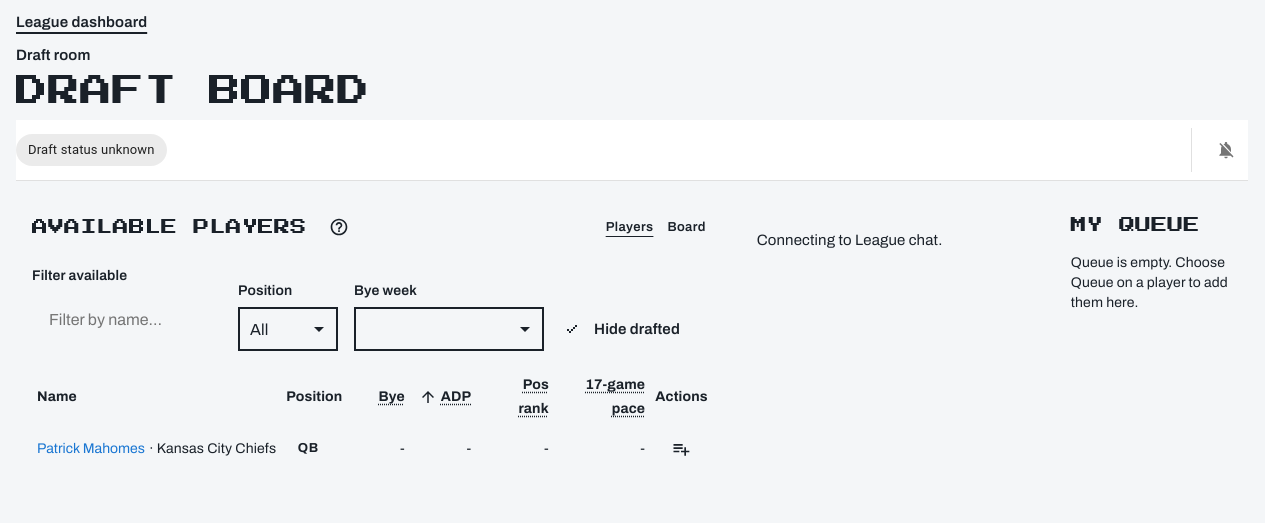
Test: clicking Queue on an available player persists the updated ordered list
Expected: the button "Patrick Mahomes" is shown, [37,427,145,471]
Click the button named "Queue". click: (681, 449)
box: [663,431,699,467]
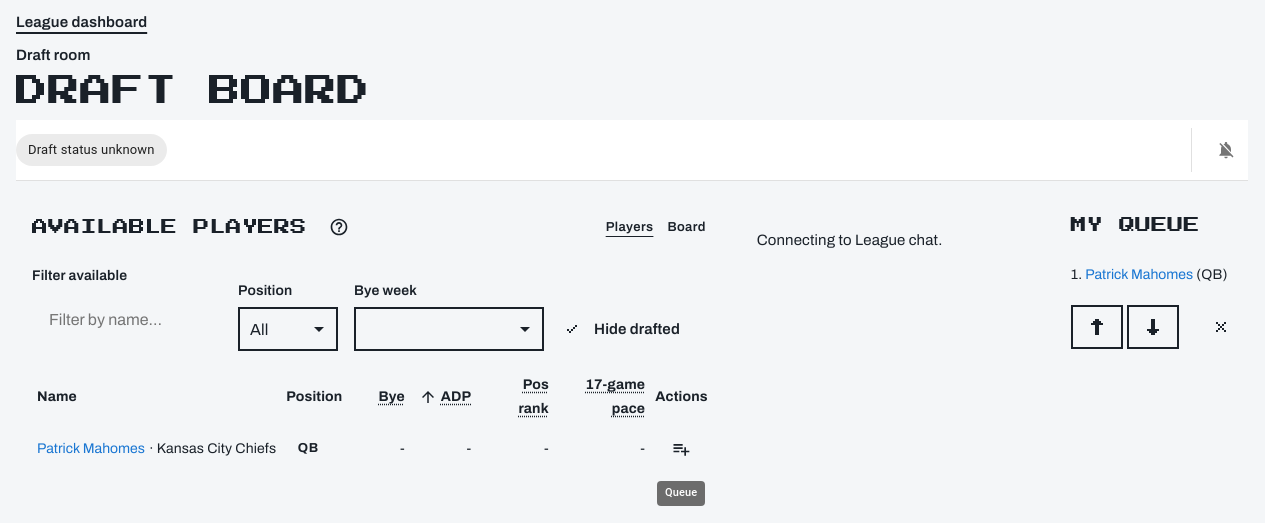
Now the number of buttons "Patrick Mahomes" is 2, box [37,427,145,471]; [1085,253,1193,297]
